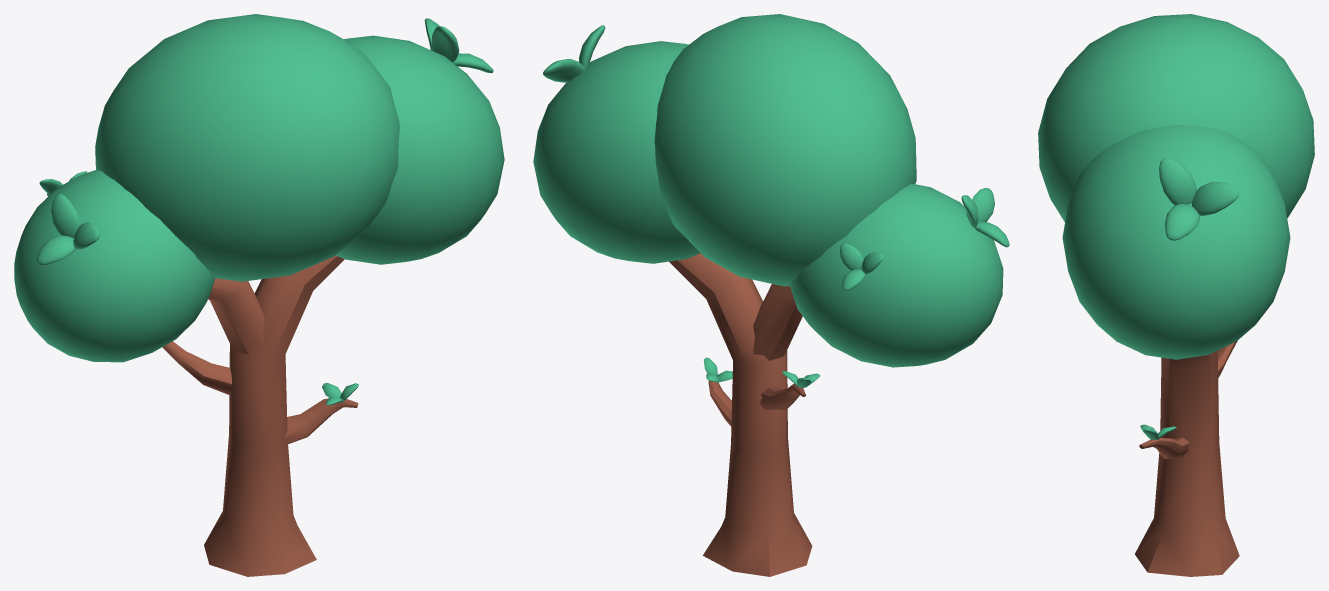
File: treeB.gltf.glb
3 views of the same model, side by side, from view 1: azimuth 30°, elevation 25°; view 2: azimuth 150°, elevation 25°; view 3: azimuth 270°, elevation 25° (orthographic). The views are drawn at different scales.
Parts seen in each view (by area): view 1: treeB; view 2: treeB; view 3: treeB.
Boxes of the visible parts, x1,y1,x2,y2 form: treeB: (14,14,504,576); treeB: (533,14,1009,576); treeB: (1038,14,1314,576).
Bounding box in the file's own units: 4.15 × 4.58 × 2.2.
